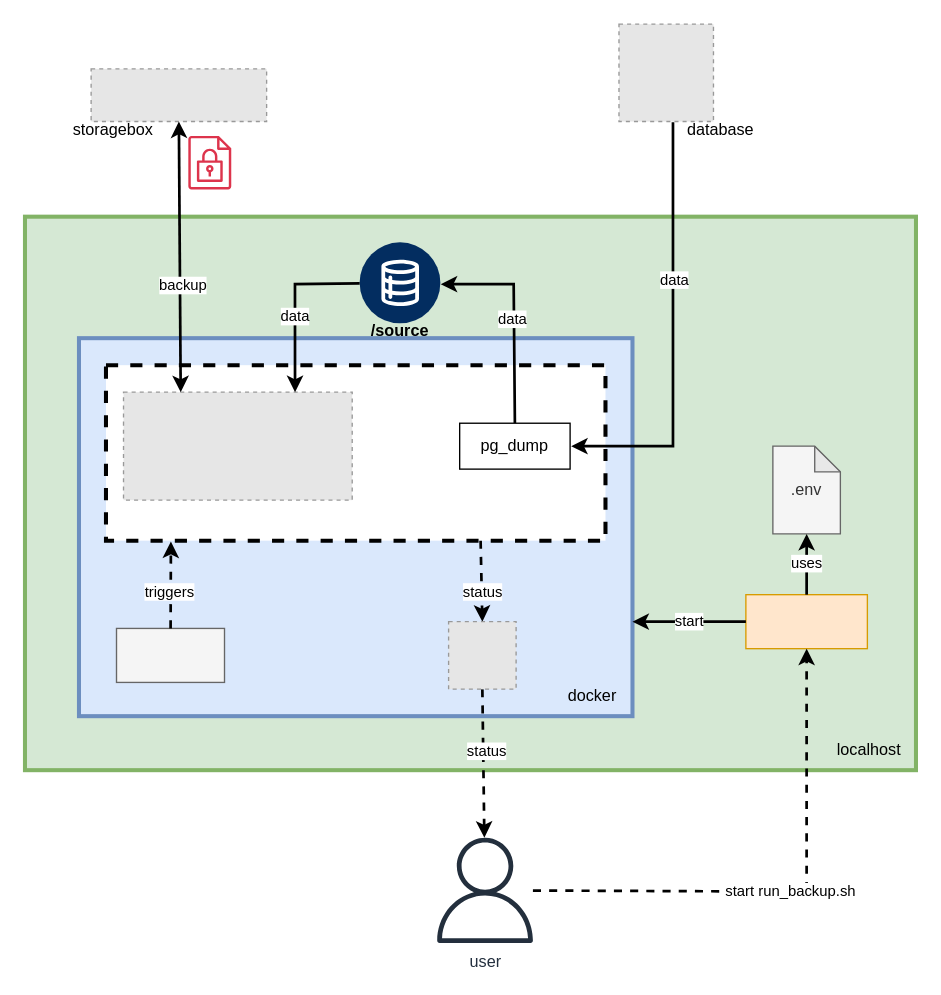
The diagram is 941 pixels wide and 995 high, and some of its shapes have lost their labels. Grey dashed boxes stand in for pictures. The centre of each missing label's shape, as x and y in pixels:
cron job: point 170,654
run_backup.sh: point 806,621
